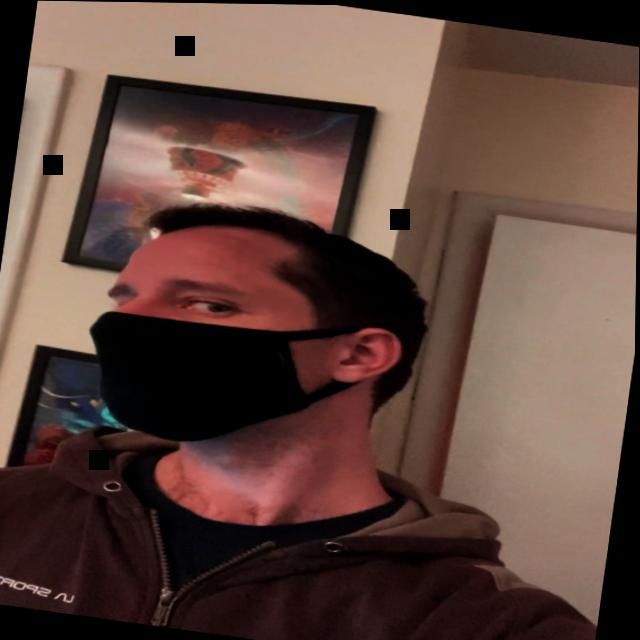Mask: (69, 198, 416, 488)
